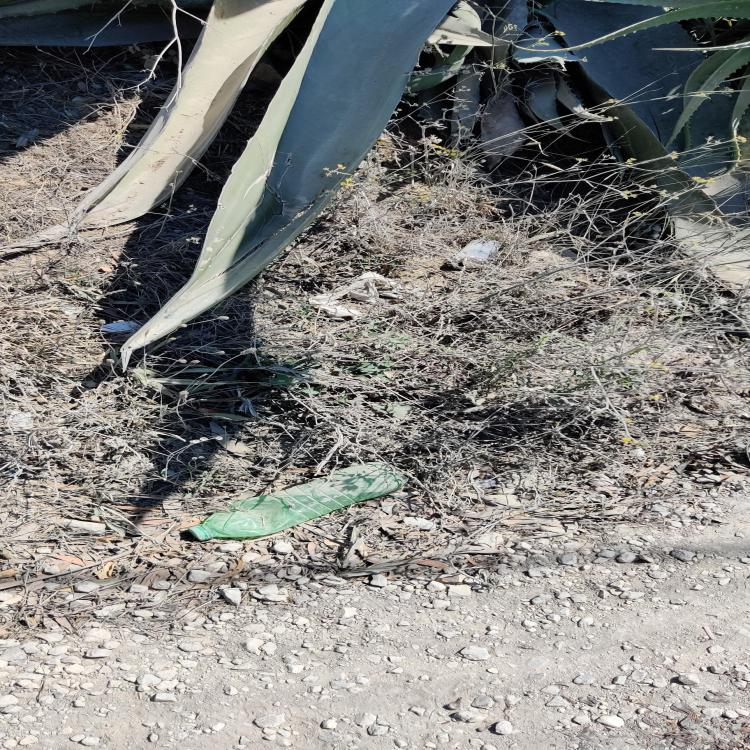Clear plastic bottle: (186, 463, 406, 541)
Drink can: (450, 239, 499, 270)
Plastic bottle cap: (187, 526, 209, 542)
Plastic film: (309, 271, 426, 320)
Unlabeled litter: (100, 320, 140, 332)
